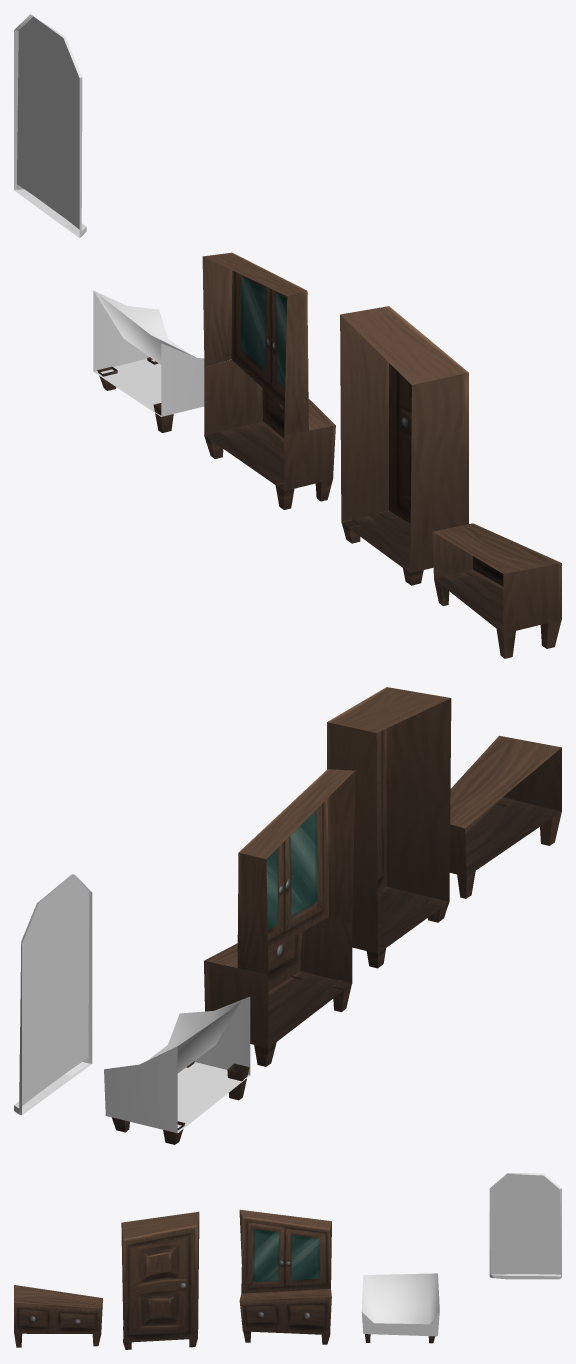
The model's file is furniture.fbx.
3 views of the same model, one above another, from view 1: azimuth 30°, elevation 25°; view 2: azimuth 150°, elevation 25°; view 3: azimuth 270°, elevation 25° (orthographic). The views are drawn at different scales.
Parts seen in each view (by area): view 1: wardrobe, display cabinet, window, chest, chair; view 2: display cabinet, wardrobe, window, chest, chair, feet; view 3: display cabinet, wardrobe, window, chair, chest.
Part boxes in pixels (left/top/right/bottom): wardrobe: left=340, top=306, right=468, bottom=585; display cabinet: left=202, top=252, right=335, bottom=509; window: left=14, top=14, right=86, bottom=238; chest: left=432, top=523, right=561, bottom=658; chair: left=93, top=290, right=204, bottom=416; display cabinet: left=204, top=769, right=355, bottom=1066; wardrobe: left=327, top=687, right=451, bottom=968; window: left=14, top=874, right=92, bottom=1115; chest: left=449, top=735, right=561, bottom=898; chair: left=104, top=996, right=250, bottom=1133; feet: left=112, top=1061, right=249, bottom=1144; display cabinet: left=239, top=1209, right=331, bottom=1344; wardrobe: left=121, top=1211, right=199, bottom=1349; window: left=489, top=1173, right=561, bottom=1279; chair: left=361, top=1273, right=439, bottom=1336; chest: left=14, top=1285, right=102, bottom=1347.
Bounding box in the file's own units: 18.3 × 56.66 × 173.
